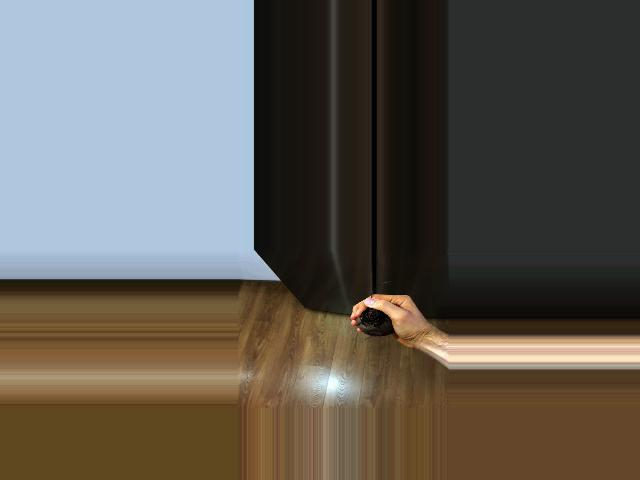beet: (355, 280, 394, 336)
